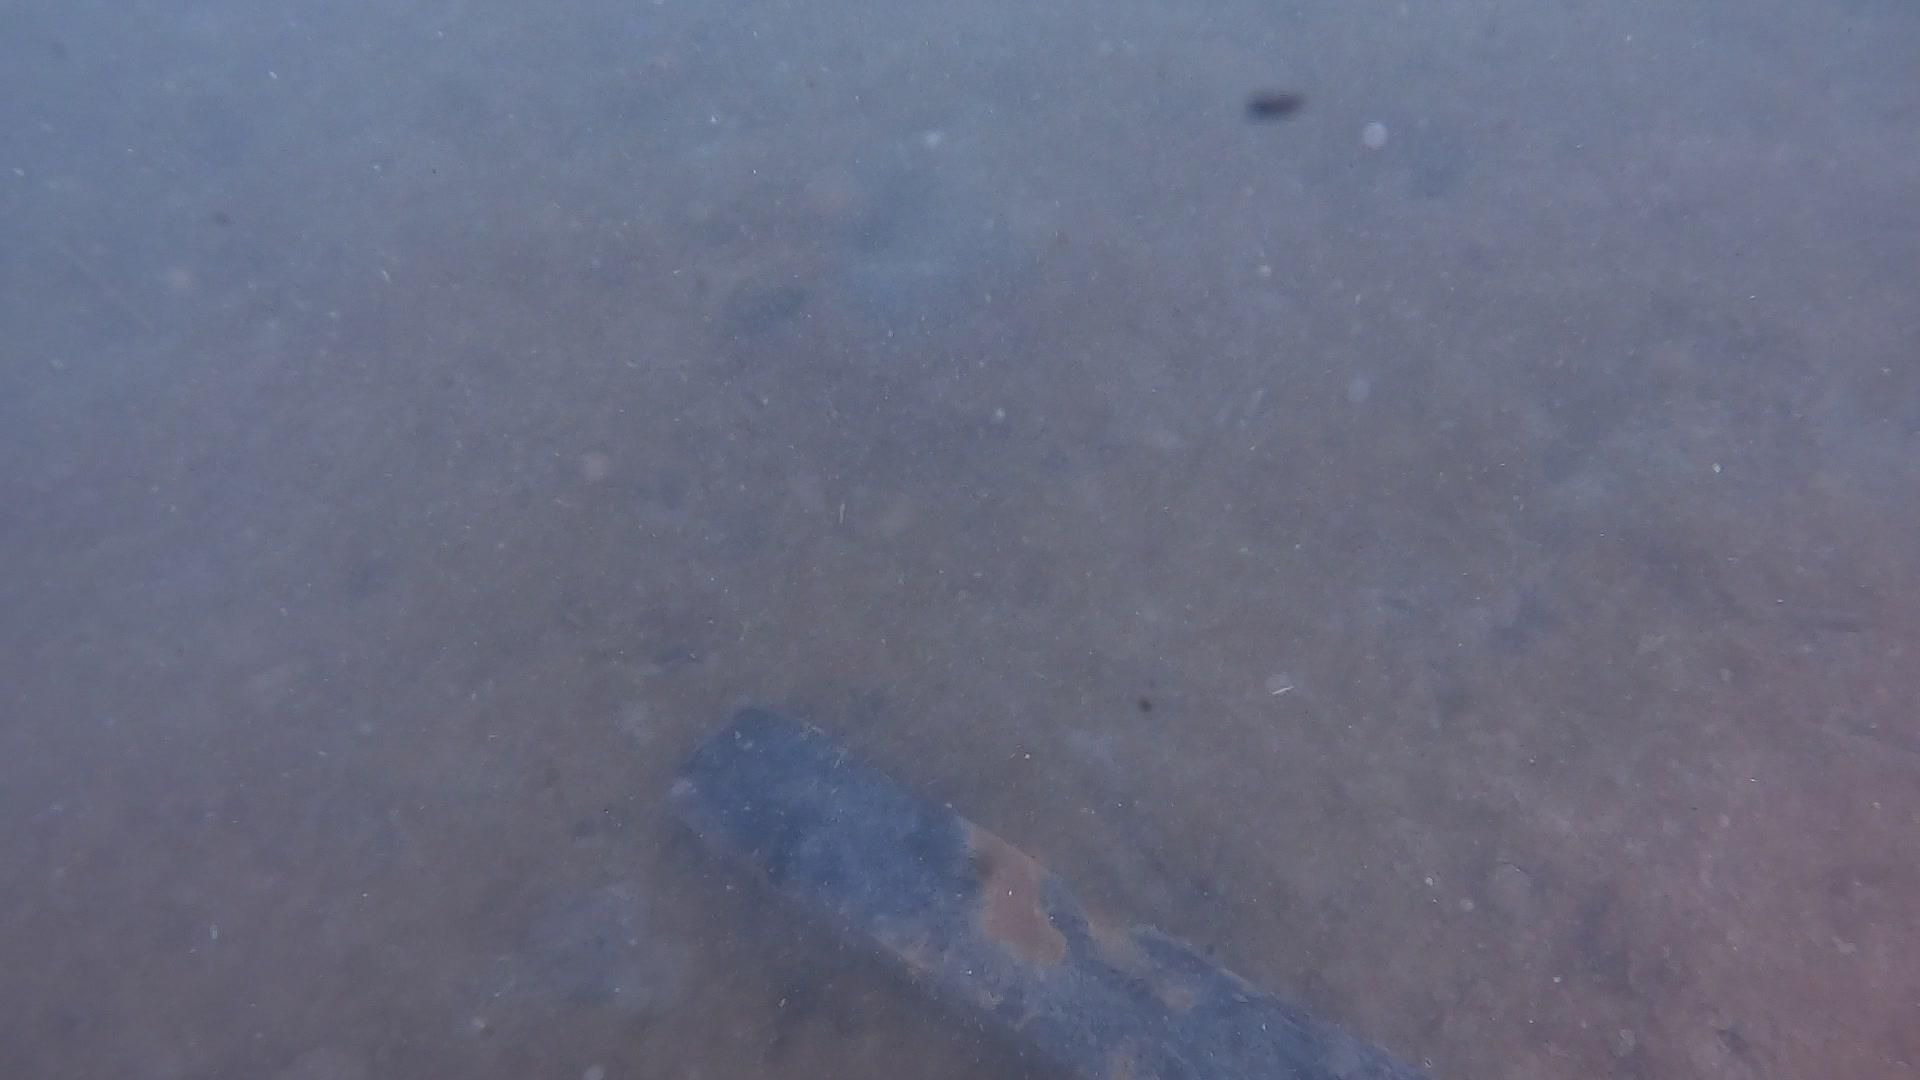wood: (657, 698, 1428, 1080)
